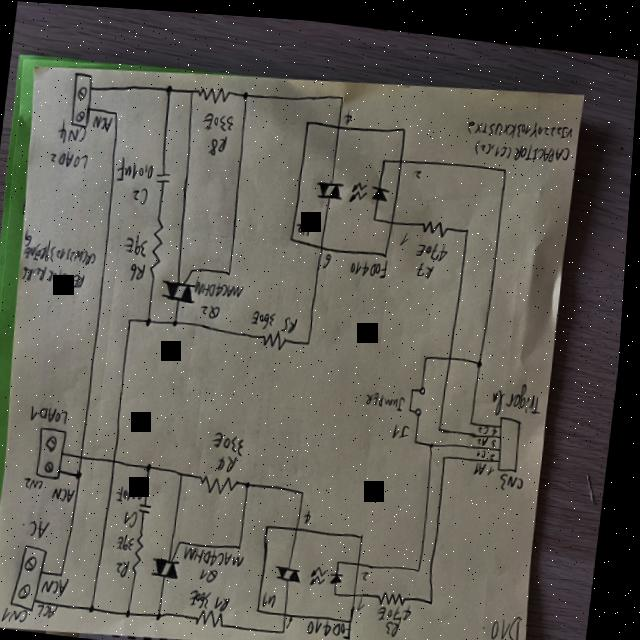capacitor: (156, 166, 174, 184), (143, 499, 160, 514)
crossover: (82, 449, 92, 461), (116, 455, 123, 463), (451, 347, 457, 355)
junction: (164, 79, 177, 93), (248, 475, 258, 486), (112, 106, 122, 117), (131, 606, 141, 616), (148, 314, 157, 325), (150, 459, 159, 470), (95, 601, 104, 612), (80, 467, 89, 478), (304, 483, 313, 494), (502, 158, 511, 168), (175, 315, 184, 325), (242, 86, 251, 96), (162, 608, 171, 618), (338, 87, 347, 97), (227, 265, 236, 274), (435, 590, 441, 600), (308, 334, 315, 342), (441, 418, 448, 426), (427, 347, 434, 355), (421, 560, 428, 568), (243, 539, 250, 547), (480, 352, 486, 361), (466, 219, 472, 228), (418, 432, 425, 439), (131, 314, 137, 322), (184, 467, 190, 475), (473, 411, 479, 419), (434, 435, 440, 442), (446, 447, 452, 454), (189, 84, 195, 90), (289, 623, 294, 630), (66, 570, 70, 576)
resistor: (150, 214, 170, 275), (202, 468, 246, 494), (200, 603, 235, 627), (196, 81, 233, 103), (138, 527, 153, 572), (264, 324, 292, 348), (422, 211, 452, 232), (383, 583, 415, 602)
switch: (412, 378, 431, 410)
terminal: (15, 537, 57, 612), (39, 422, 76, 481), (498, 405, 530, 466), (69, 70, 97, 128)
text: (465, 106, 575, 140), (23, 225, 101, 267), (472, 127, 576, 158), (489, 371, 549, 414), (22, 261, 89, 288), (188, 539, 254, 566), (197, 274, 249, 298), (116, 152, 156, 183), (313, 611, 360, 635), (216, 425, 253, 454), (50, 147, 91, 170), (33, 402, 74, 425), (352, 251, 390, 275), (383, 594, 421, 618), (417, 232, 452, 258), (368, 384, 411, 405), (58, 116, 89, 145), (202, 107, 235, 130), (120, 480, 152, 503), (125, 230, 151, 257), (48, 574, 78, 597), (32, 516, 57, 539), (254, 304, 280, 326), (195, 584, 221, 606), (56, 482, 83, 503), (503, 464, 531, 484), (209, 130, 232, 154), (9, 605, 37, 624), (219, 450, 244, 470), (121, 527, 143, 549), (92, 111, 116, 131), (121, 553, 138, 579), (418, 252, 438, 274), (43, 600, 66, 619), (131, 257, 149, 281), (218, 589, 239, 609), (396, 415, 416, 435), (203, 298, 224, 317), (205, 563, 227, 581), (128, 505, 145, 527), (28, 475, 51, 491), (133, 183, 151, 203), (393, 609, 409, 631), (286, 311, 302, 331), (296, 215, 314, 232), (478, 451, 494, 470), (269, 586, 285, 604), (481, 425, 495, 440), (325, 247, 335, 265), (343, 105, 354, 121), (402, 224, 412, 241), (482, 415, 495, 427), (413, 161, 425, 174), (309, 505, 319, 520), (364, 592, 374, 607), (480, 440, 492, 451), (367, 563, 377, 576), (492, 455, 502, 468), (493, 442, 503, 454), (294, 610, 301, 624), (496, 418, 504, 428), (495, 429, 502, 439)
